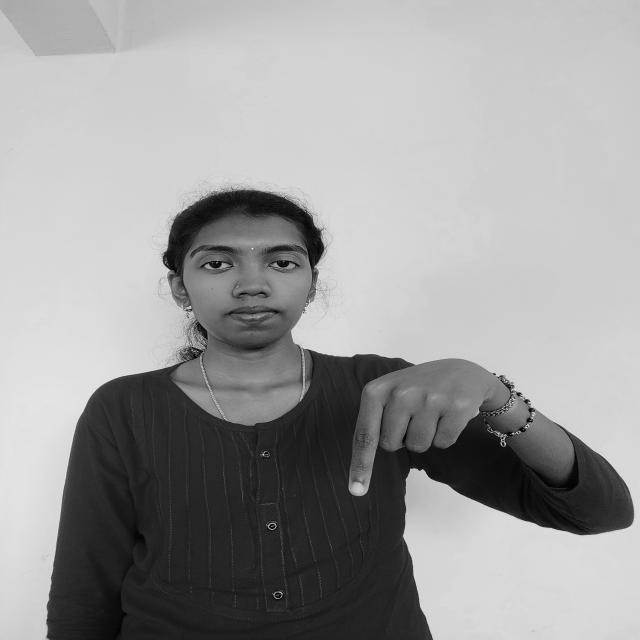Now: (337, 349, 502, 497)
